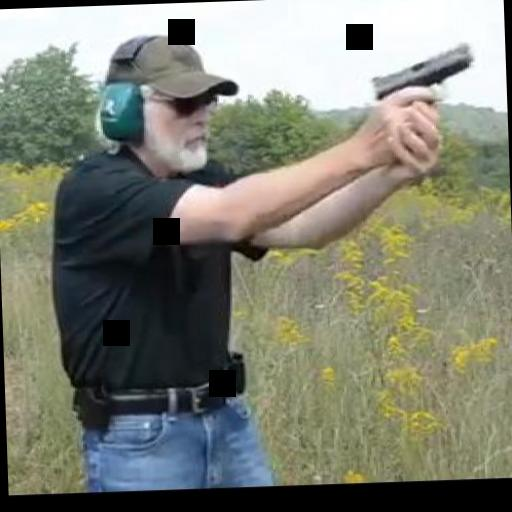Handgun: (362, 38, 478, 167)
